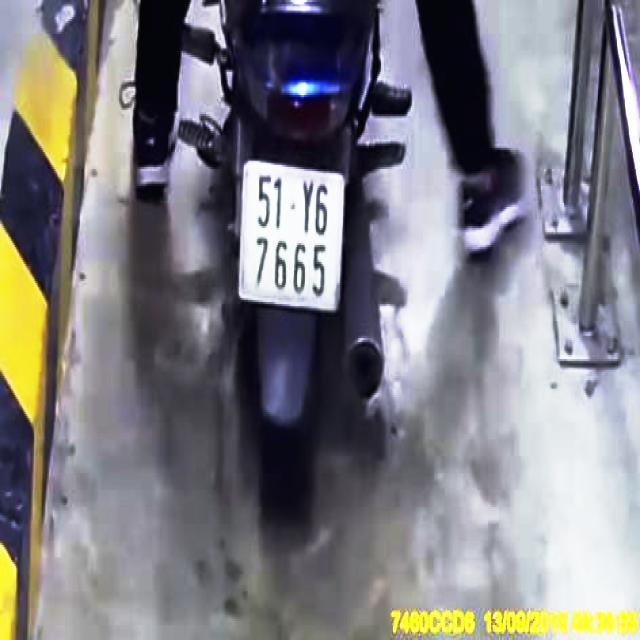license_plate: (239, 163, 346, 312)
